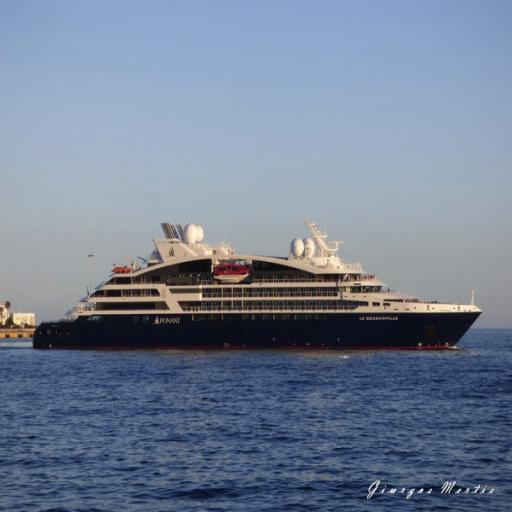cruises: (31, 213, 487, 362)
